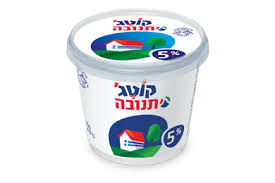Cotage: (61, 6, 203, 168)
